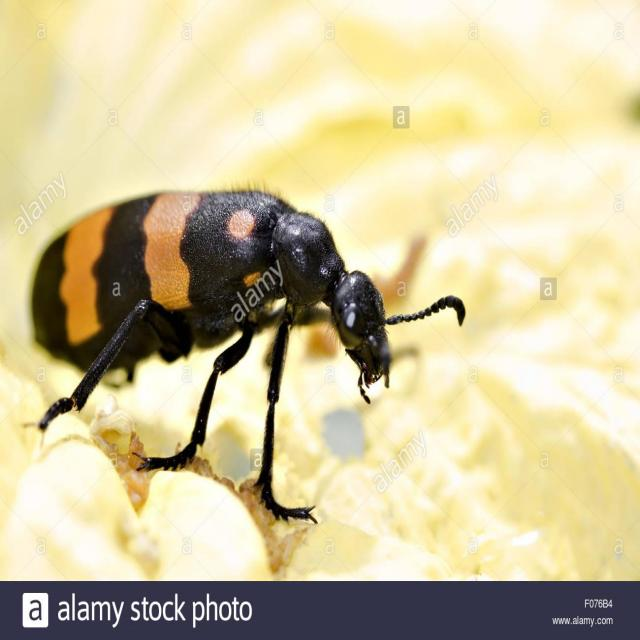BlisterBeetle-Adult-: (20, 174, 478, 534)
